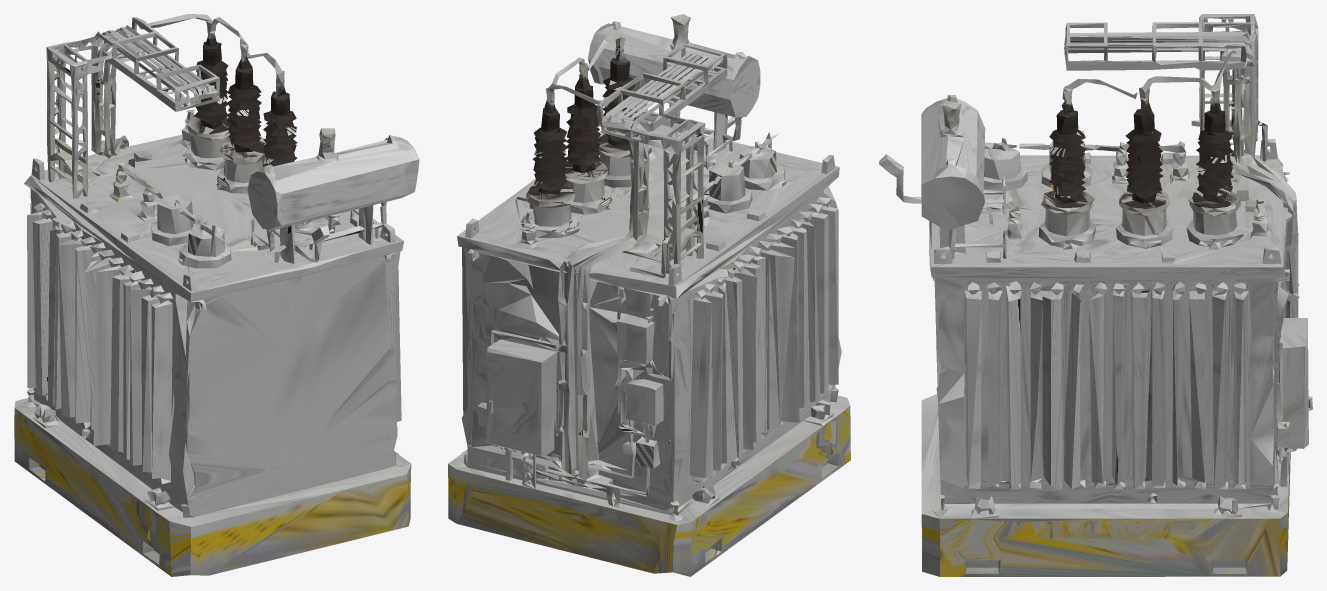
3 renders of one model, left to right at view 1: azimuth 30°, elevation 25°; view 2: azimuth 150°, elevation 25°; view 3: azimuth 270°, elevation 25°, orthographic. The views are drawn at different scales.
Visible parts, largest first — view 1: k07; view 2: k07; view 3: k07.
Boxes of the visible parts, <box> form: k07: <box>14,14,419,576</box>; k07: <box>448,14,850,576</box>; k07: <box>879,14,1312,576</box>.
Size of the model in its own units: 10.27 by 16 by 13.58.
Materials: 1 (1 with a texture image).
